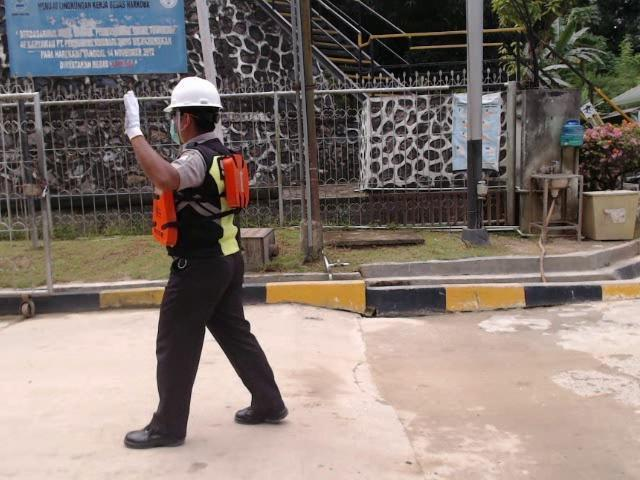vest: (143, 156, 253, 248)
